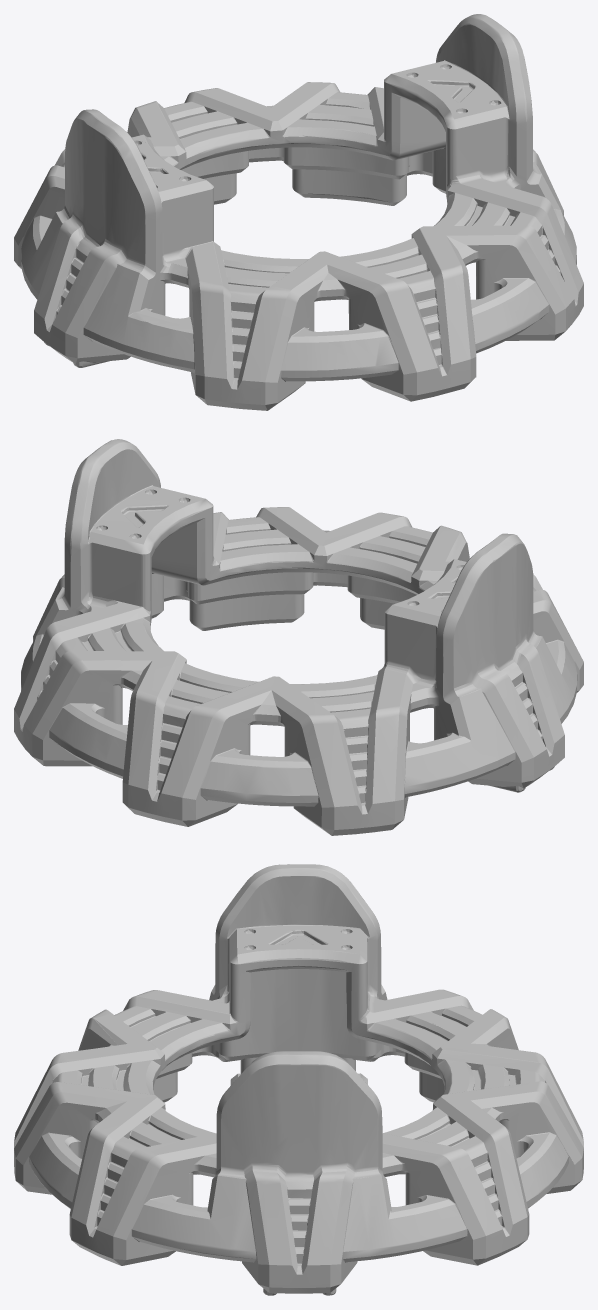
File: Vertical.obj
3 renders of one model, top to bottom at view 1: azimuth 30°, elevation 25°; view 2: azimuth 150°, elevation 25°; view 3: azimuth 270°, elevation 25°, orthographic.
Visible parts, largest first — view 1: Mesh_0026out; view 2: Mesh_0026out; view 3: Mesh_0026out.
Part boxes in pixels (x1=…): Mesh_0026out: x1=14, y1=14, x2=583, y2=410; Mesh_0026out: x1=14, y1=439, x2=583, y2=835; Mesh_0026out: x1=14, y1=864, x2=583, y2=1295.
Bounding box in the file's own units: 0.39 × 0.168 × 0.39.
1 material, 1 textured.
